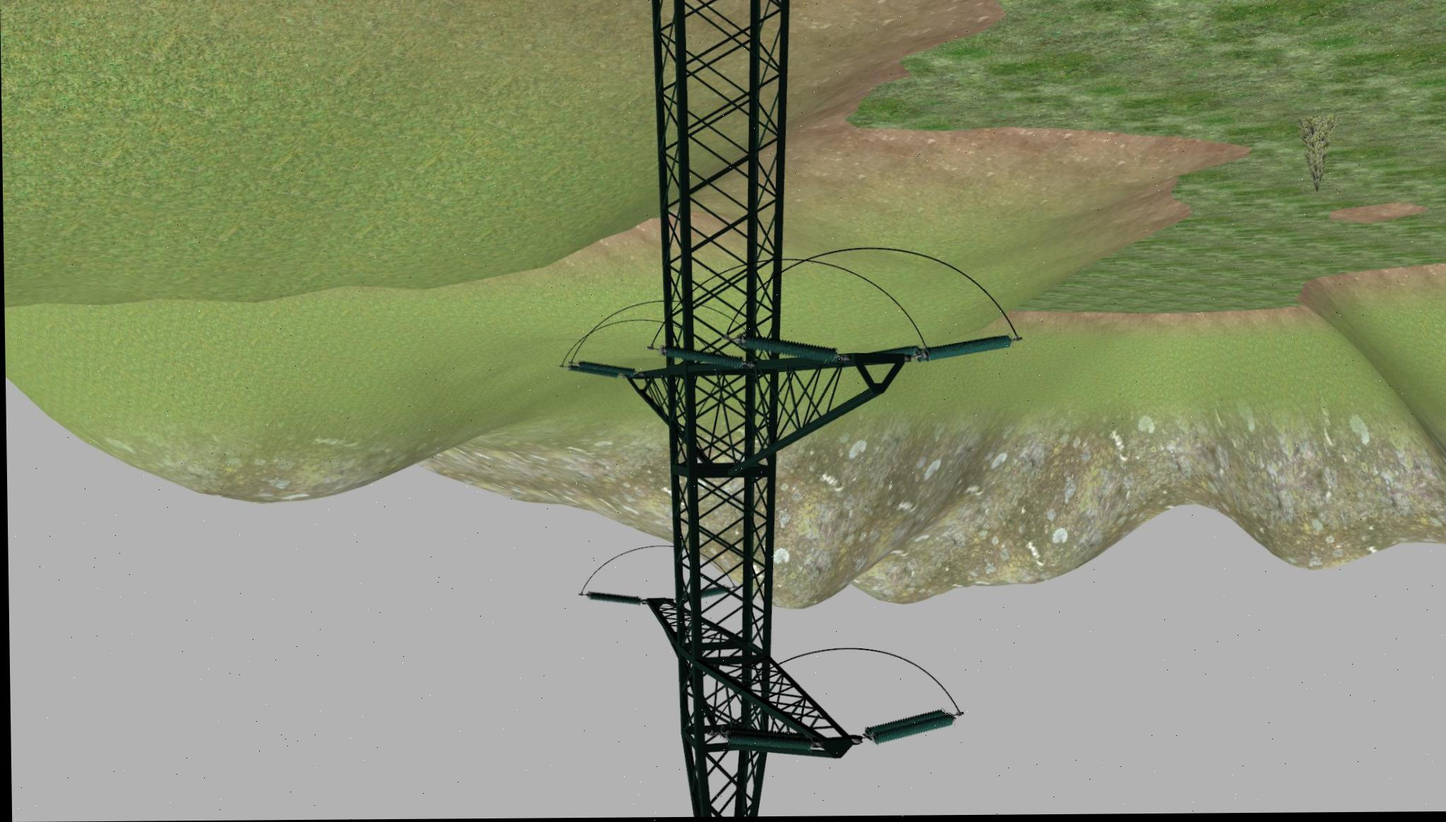tower: (631, 0, 915, 817)
